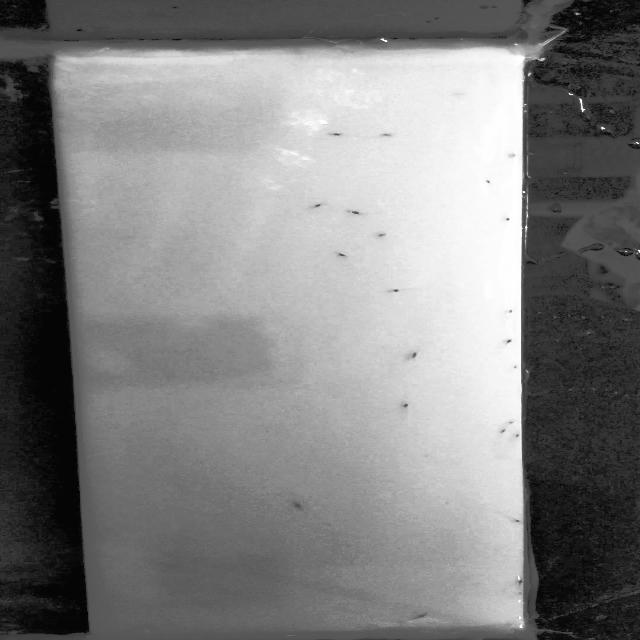shrimp: (384, 400, 422, 416), (399, 348, 429, 366), (310, 200, 340, 217), (505, 571, 533, 588), (158, 560, 185, 576), (376, 129, 401, 146), (387, 284, 409, 300), (495, 214, 522, 227), (369, 233, 394, 246), (340, 247, 361, 262), (486, 177, 501, 194), (325, 126, 343, 140), (502, 304, 521, 317), (343, 208, 365, 219), (410, 613, 435, 622), (296, 500, 313, 513), (499, 337, 522, 346), (505, 419, 518, 428), (496, 429, 512, 436)
